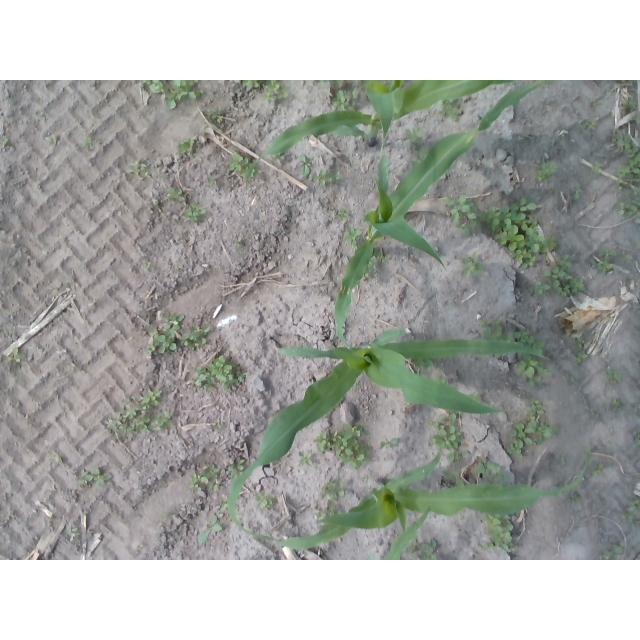Maize: (227, 329, 549, 536), (334, 82, 555, 347), (263, 447, 590, 550), (246, 81, 515, 190), (383, 506, 432, 560)
Weeds: (444, 193, 557, 271), (105, 388, 171, 442), (507, 398, 561, 458), (146, 309, 210, 358), (312, 424, 374, 468), (192, 354, 253, 395), (430, 412, 471, 462), (545, 254, 588, 299), (141, 81, 203, 112), (613, 131, 640, 190), (514, 355, 555, 390), (480, 514, 514, 555), (190, 464, 224, 492), (231, 151, 258, 186), (195, 515, 224, 546), (588, 248, 618, 276), (508, 328, 544, 351), (472, 456, 505, 481), (459, 253, 486, 282), (77, 468, 113, 487), (477, 317, 507, 339), (319, 476, 345, 501), (410, 538, 439, 560), (311, 169, 343, 188), (616, 192, 640, 217), (536, 163, 561, 186), (252, 491, 278, 513), (125, 161, 151, 182), (599, 540, 626, 560), (182, 202, 206, 224), (80, 130, 102, 152), (206, 109, 229, 130), (263, 80, 286, 101), (6, 346, 26, 370), (332, 90, 356, 110), (439, 103, 463, 122), (624, 499, 640, 526), (175, 139, 197, 158), (341, 226, 360, 248), (298, 154, 316, 177), (606, 366, 624, 387), (407, 126, 425, 147), (531, 280, 550, 296), (228, 457, 244, 476), (168, 187, 185, 204), (314, 505, 336, 518), (299, 451, 314, 470), (68, 523, 81, 544), (582, 118, 601, 132), (378, 438, 398, 451), (375, 247, 391, 263), (44, 132, 61, 147), (241, 80, 265, 90), (591, 163, 606, 178), (570, 184, 583, 201), (338, 208, 351, 225), (217, 493, 227, 515), (205, 173, 217, 190), (609, 399, 623, 413), (213, 422, 228, 435), (593, 463, 606, 477), (152, 197, 165, 211), (414, 147, 427, 161), (574, 350, 589, 362), (628, 97, 640, 112), (413, 358, 435, 366), (314, 80, 343, 86), (592, 101, 605, 112), (143, 258, 153, 271), (570, 491, 582, 501), (633, 432, 640, 448), (577, 337, 587, 348), (51, 456, 64, 464), (361, 476, 372, 485), (618, 80, 637, 85), (236, 237, 245, 247), (631, 113, 640, 123), (2, 136, 10, 147), (369, 260, 376, 272), (174, 261, 184, 269), (436, 375, 449, 381), (162, 512, 170, 521), (36, 110, 45, 118), (469, 391, 481, 397), (71, 363, 77, 373), (364, 273, 369, 280)
